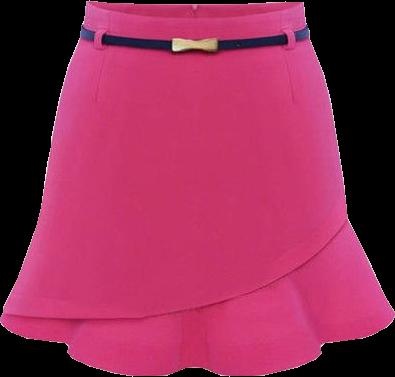Hemline: (3, 218, 348, 322), (0, 312, 394, 376)
Waistline: (86, 0, 299, 21)
